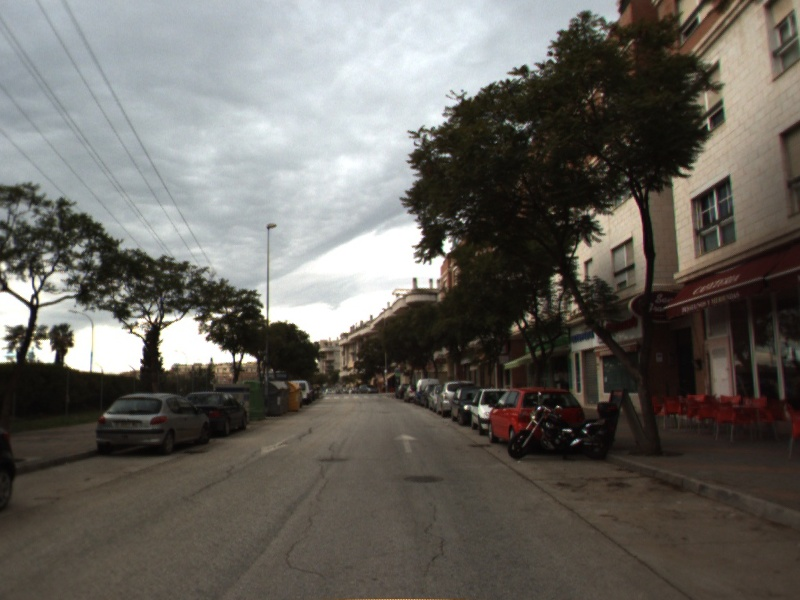STRAIGHT: (390, 431, 421, 455)
